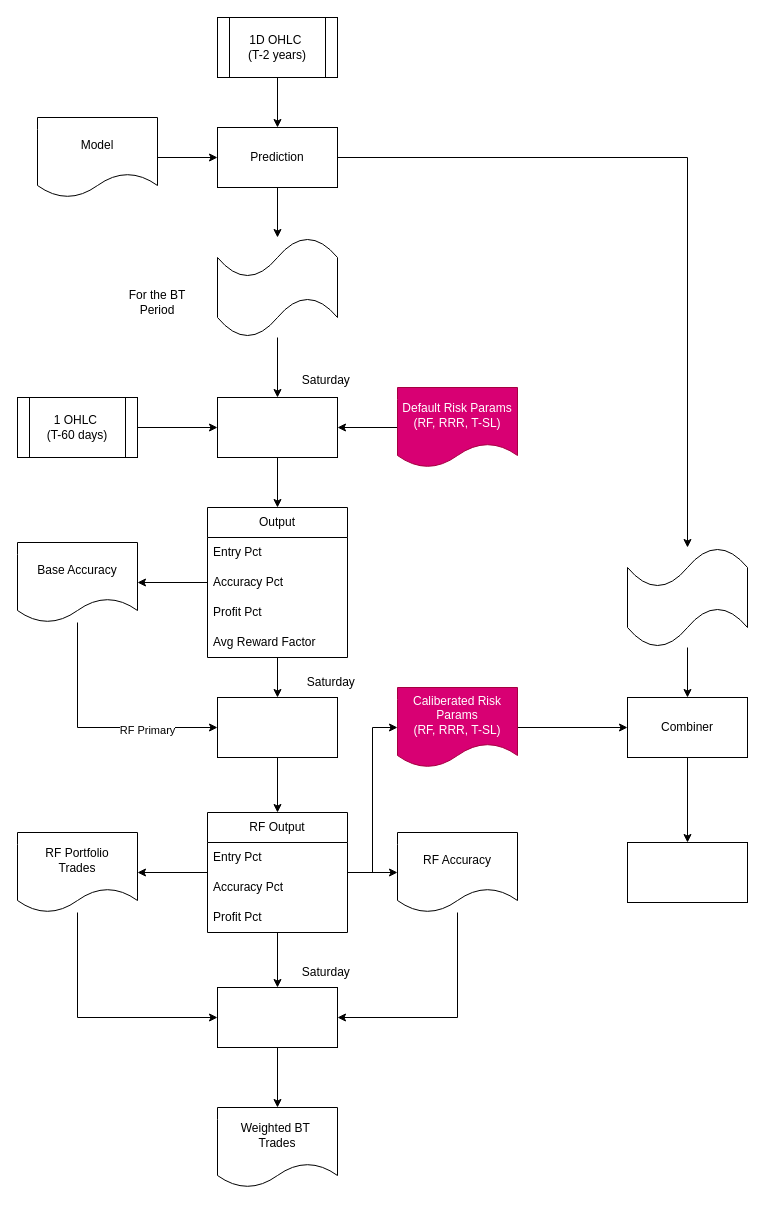
Some shapes in this 765 by 1205 pixel diagram are drawn without their labels. Here are the shapes that lost their labels. From the top down, the centre of each, then its label:
At point (277, 287): "Pred".
At point (277, 427): "Base Accuracy Backtesting".
At point (687, 597): "Next Close".
At point (277, 727): "RF Accuracy Backtesting".
At point (687, 872): "Entries".
At point (277, 1017): "Weighted Backtest".
